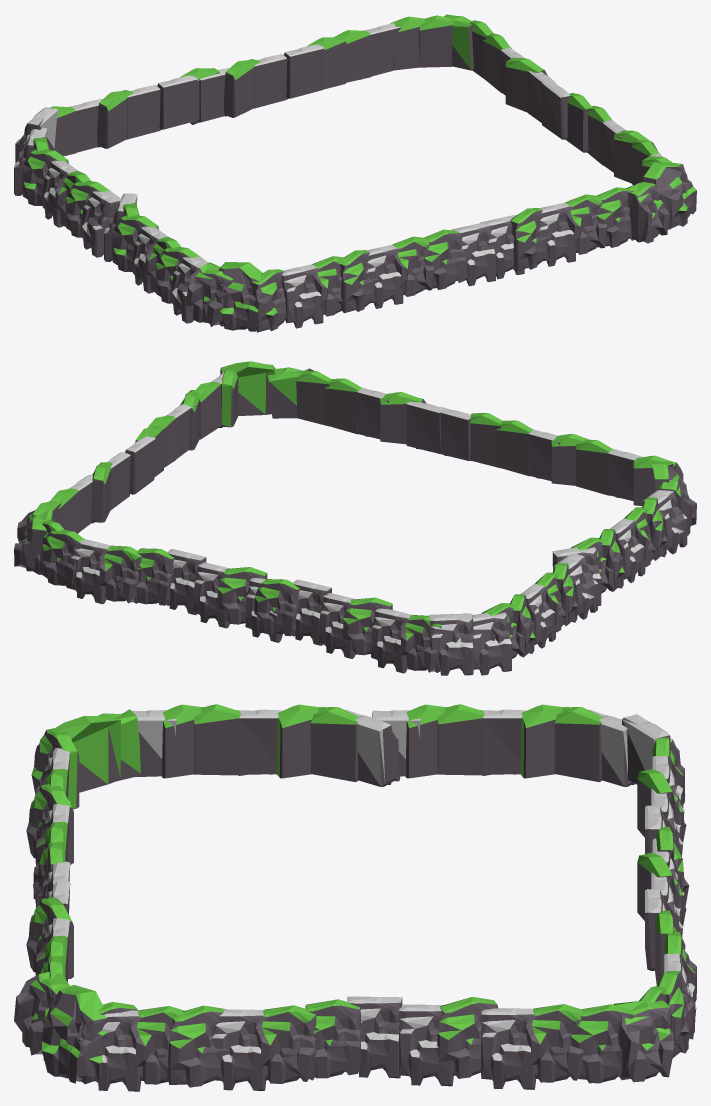
Rendered from rocks.obj.
The picture shows the model from 3 angles, top to bottom: view 1: azimuth 30°, elevation 25°; view 2: azimuth 150°, elevation 25°; view 3: azimuth 270°, elevation 25°; orthographic projection. The views are drawn at different scales.
Visible parts, largest first — view 1: Cube.006_Cube.007, Cube.027_Cube.092, Cube.010_Cube.011, Cube.026_Cube.091, Cube.016_Cube.017, Cube.005_Cube.006, Cube.109_Cube.134, Cube.104_Cube.128, Cube.015_Cube.016, Cube.023_Cube.057, Cube.021_Cube.055, Cube.020_Cube.054 (+43 smaller); view 2: Cube.003_Cube.144, Cube.108_Cube.133, Cube.102_Cube.126, Cube.116_Cube.141, Cube.027_Cube.092, Cube.103_Cube.127, Cube.098_Cube.131, Cube.100_Cube.124, Cube.105_Cube.129, Cube.107_Cube.132, Cube.110_Cube.135, Cube.015_Cube.016 (+46 smaller); view 3: Cube.027_Cube.092, Cube.090_Cube.114, Cube.085_Cube.109, Cube.083_Cube.107, Cube.088_Cube.112, Cube.084_Cube.108, Cube.091_Cube.115, Cube.006_Cube.007, Cube.089_Cube.113, Cube.094_Cube.118, Cube.093_Cube.117, Cube.095_Cube.119 (+40 smaller).
Boxes of the visible parts, x1,y1,x2,y2 form: Cube.006_Cube.007: (215,262,264,331); Cube.027_Cube.092: (643,162,696,229); Cube.010_Cube.011: (282,264,323,328); Cube.026_Cube.091: (626,182,669,243); Cube.016_Cube.017: (424,229,466,289); Cube.005_Cube.006: (185,262,233,326); Cube.109_Cube.134: (157,75,197,129); Cube.104_Cube.128: (284,44,324,98); Cube.015_Cube.016: (393,236,434,296); Cube.023_Cube.057: (565,194,607,254); Cube.021_Cube.055: (510,208,551,270); Cube.020_Cube.054: (451,222,495,286); Cube.003_Cube.144: (429,613,473,675); Cube.108_Cube.133: (254,579,299,636); Cube.102_Cube.126: (99,545,142,603); Cube.116_Cube.141: (472,612,511,675); Cube.027_Cube.092: (220,361,274,415); Cube.103_Cube.127: (136,548,174,605); Cube.098_Cube.131: (371,608,412,673); Cube.100_Cube.124: (41,529,84,588); Cube.105_Cube.129: (217,567,267,624); Cube.107_Cube.132: (400,615,441,672); Cube.110_Cube.135: (342,597,392,655); Cube.015_Cube.016: (496,420,533,476); Cube.027_Cube.092: (42,985,108,1084); Cube.090_Cube.114: (255,1005,316,1083); Cube.085_Cube.109: (613,1000,674,1082); Cube.083_Cube.107: (481,1008,535,1089); Cube.088_Cube.112: (167,1005,229,1087); Cube.084_Cube.108: (525,1004,584,1082); Cube.091_Cube.115: (305,999,360,1078); Cube.006_Cube.007: (46,714,120,792); Cube.089_Cube.113: (211,1009,266,1090); Cube.094_Cube.118: (571,1004,633,1083); Cube.093_Cube.117: (437,997,498,1078); Cube.095_Cube.119: (399,1004,453,1086).
Size of the model in its own units: 49.52 by 5.74 by 43.58.
